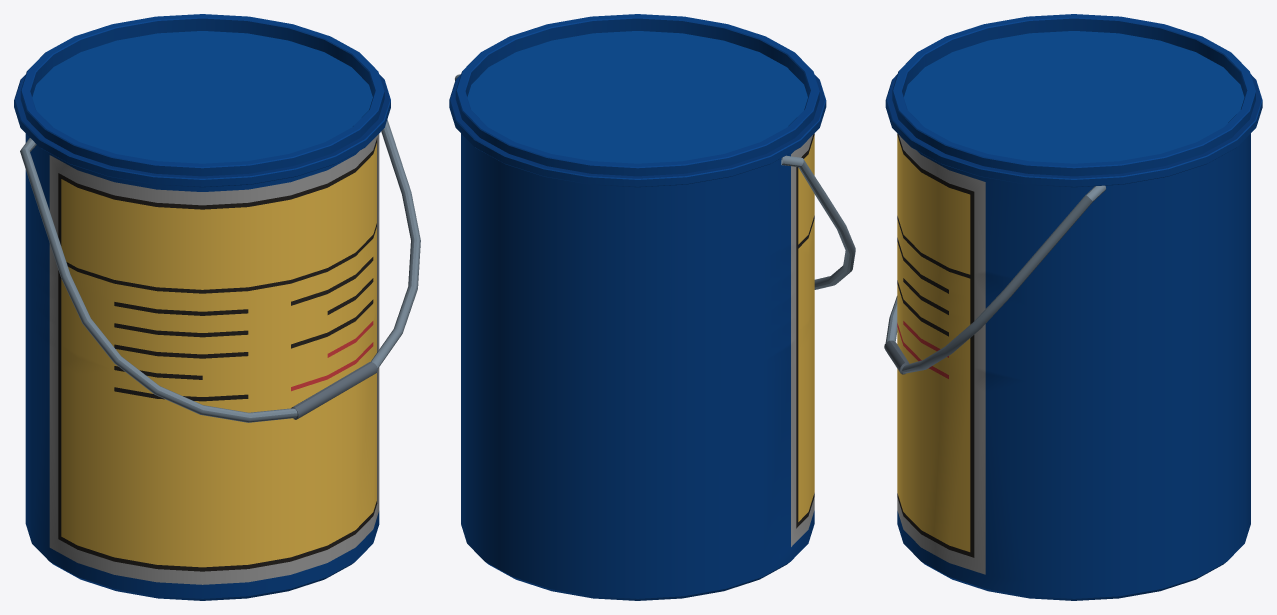
File: SM_Cont_A_D.fbx
3 views of the same model, side by side, from view 1: azimuth 30°, elevation 25°; view 2: azimuth 150°, elevation 25°; view 3: azimuth 270°, elevation 25° (orthographic).
Parts seen in each view (by area): view 1: SM_Cont_A_D; view 2: SM_Cont_A_D; view 3: SM_Cont_A_D.
Part boxes in pixels (box(x1,y1,x2,y2)): SM_Cont_A_D: box(14, 14, 420, 600); SM_Cont_A_D: box(449, 14, 855, 600); SM_Cont_A_D: box(884, 14, 1262, 600).
Size of the model in its own units: 31.72 by 37.97 by 29.75.
